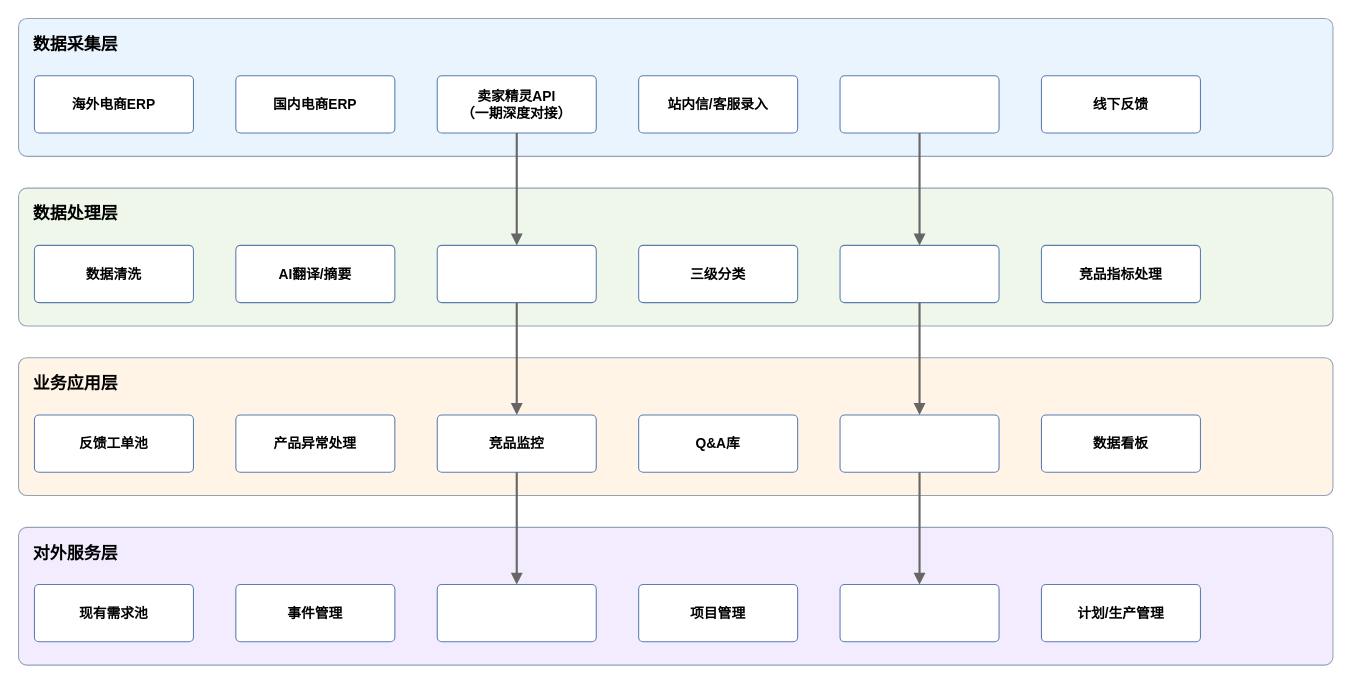
This 1351x684 diagram has some shape labels left out. The shapes that lost their labels are listed below. From the top down, each one's centre as x and y in pixels, then its label:
(919,104): APP反馈
(516,273): AI去重聚类
(919,273): 异常分级P0-P3
(919,443): 案例库
(516,613): PMS/售后
(919,613): 飞书通知/文档
